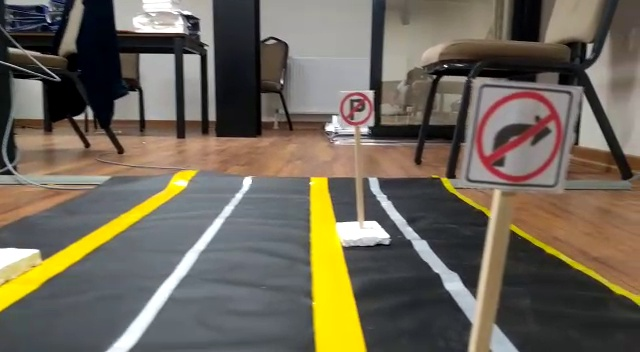park_yapilmaz: (338, 90, 373, 126)
saga_donulmez: (475, 84, 571, 187)
